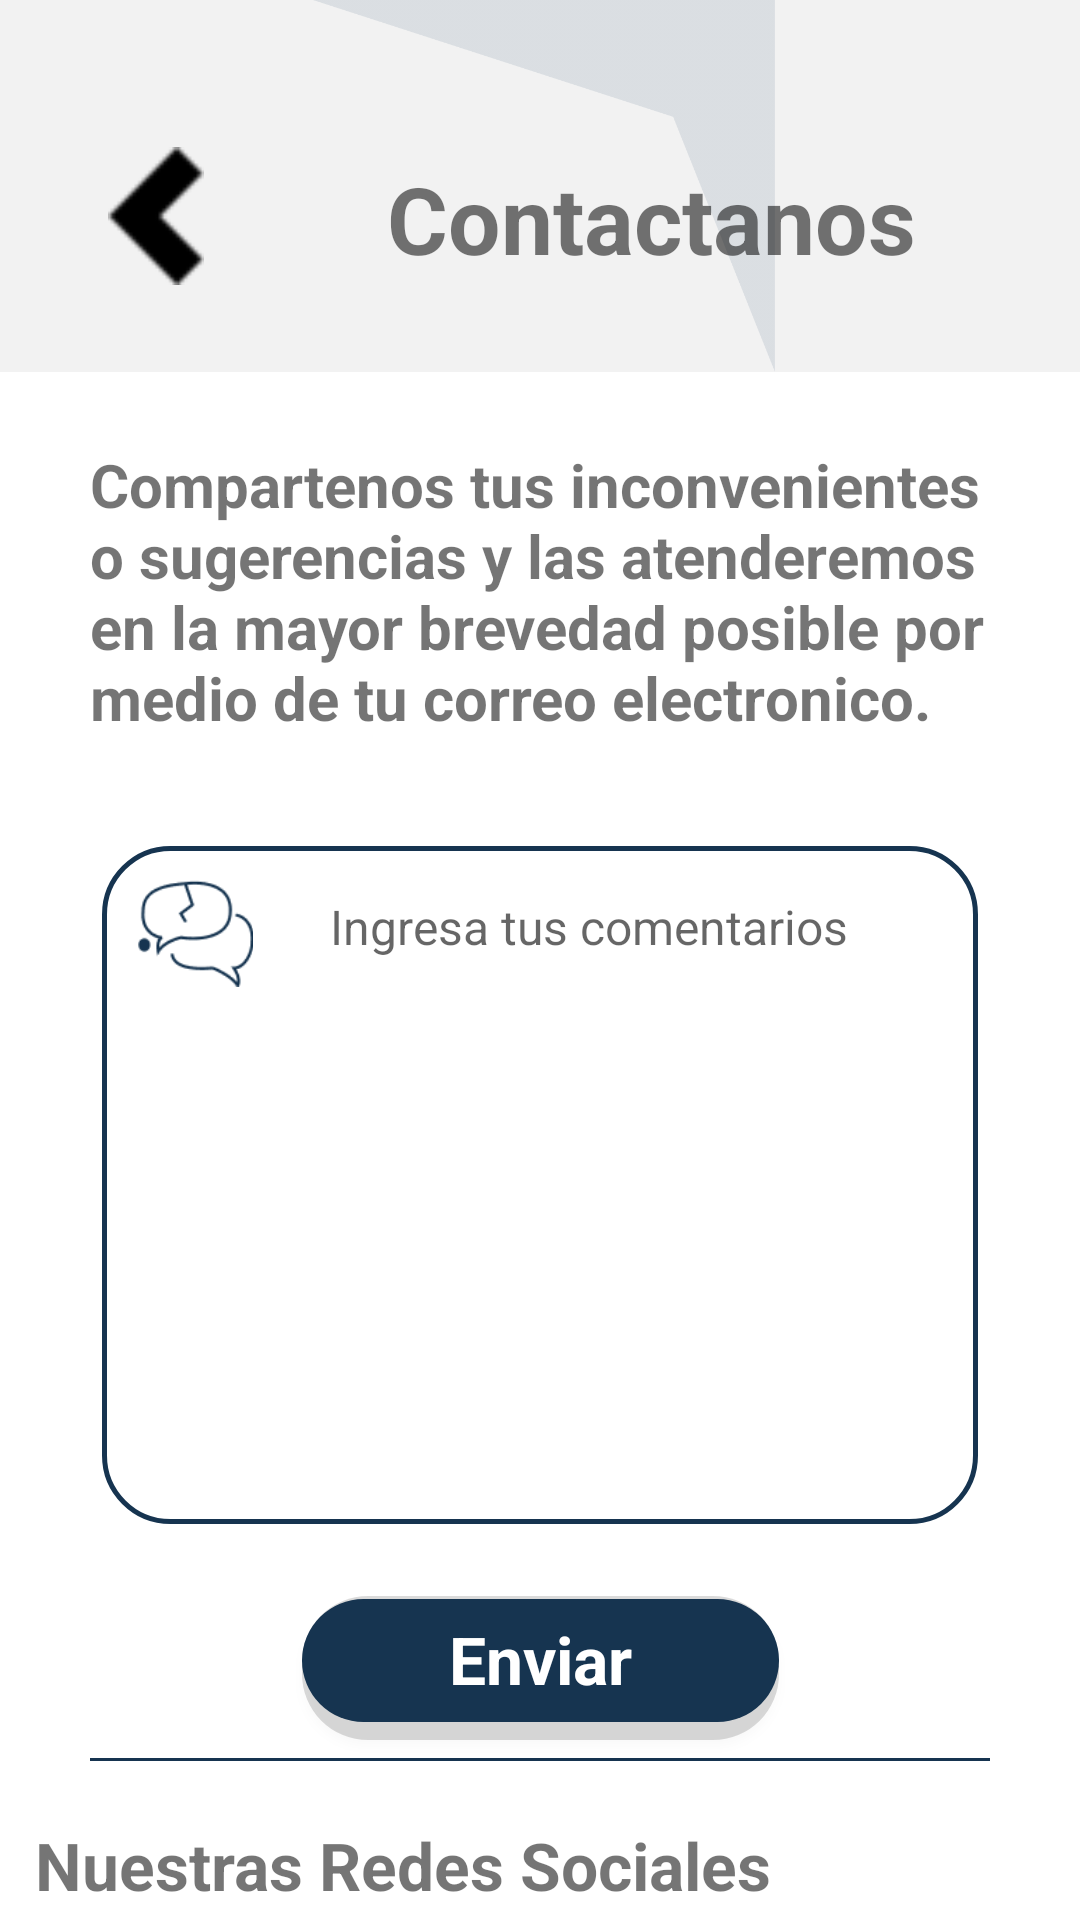

Locate icon controls on the screen. Image size 1080 x 1920, boxes as (x1, y1, x2, y2).
back: (108, 147, 204, 285)
